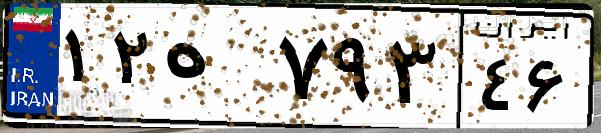1: (57, 26, 110, 100)
2: (110, 28, 158, 98)
3: (385, 28, 445, 110)
4: (475, 38, 525, 113)
6: (525, 38, 570, 115)
7: (270, 28, 330, 110)
9: (330, 28, 385, 110)
ه: (158, 20, 270, 120)
